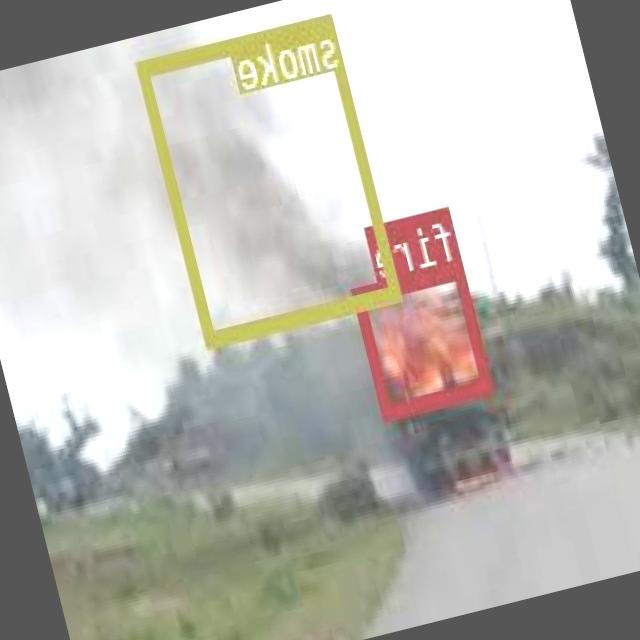fire: (354, 260, 495, 416)
smoke: (138, 11, 404, 345)
